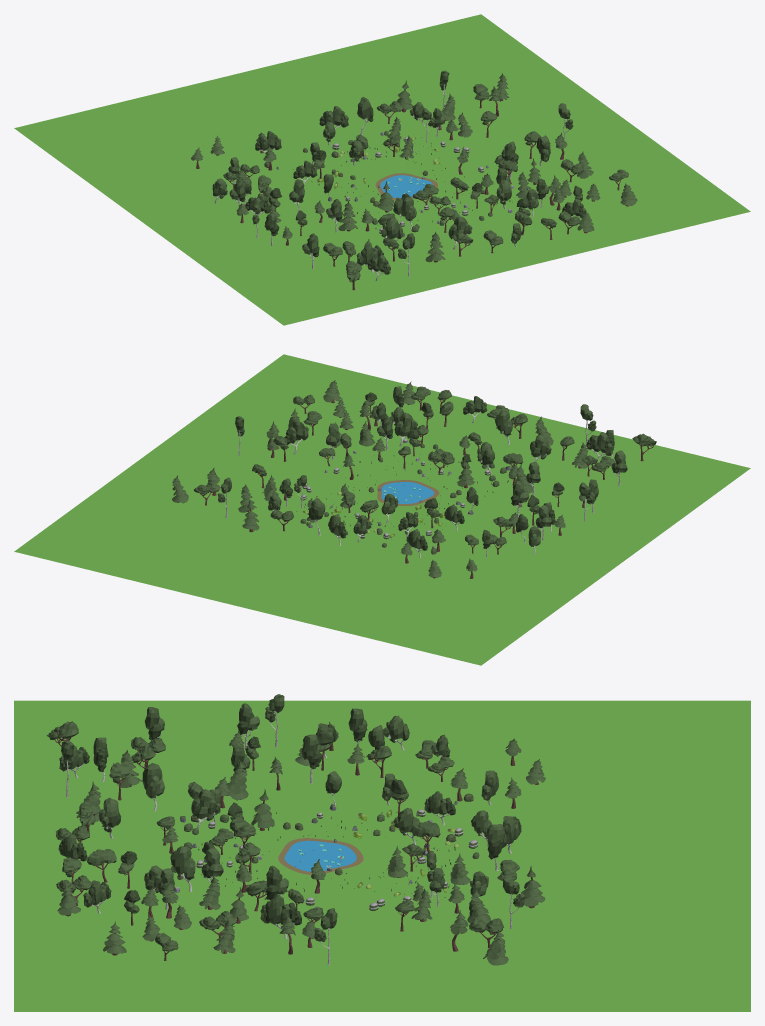
File: env_clear_lake.glb
3 renders of one model, top to bottom at view 1: azimuth 30°, elevation 25°; view 2: azimuth 150°, elevation 25°; view 3: azimuth 270°, elevation 25°, orthographic. The views are drawn at different scales.
Visible parts, largest first — view 1: ground, pond_0; view 2: ground, pond_0; view 3: ground, BirchTree_1 (×5), BirchTree_4 (×3), BirchTree_3 (×3), pond_0, shore_0, BirchTree_2, PineTree_3.
Boxes of the visible parts, x1,y1,x2,y2 form: ground: (14,14,750,325); pond_0: (380,175,432,197); ground: (14,354,750,665); pond_0: (381,482,434,503); ground: (14,700,750,1011); BirchTree_1 (×5): (99,715,409,891); BirchTree_4 (×3): (83,791,455,938); BirchTree_3 (×3): (237,703,322,900); pond_0: (284,840,356,871); shore_0: (278,838,363,874); BirchTree_2: (486,824,505,870); PineTree_3: (226,759,248,800).
Bounding box in the file's own units: 140 × 12 × 140.
17 materials, 2 textured.
